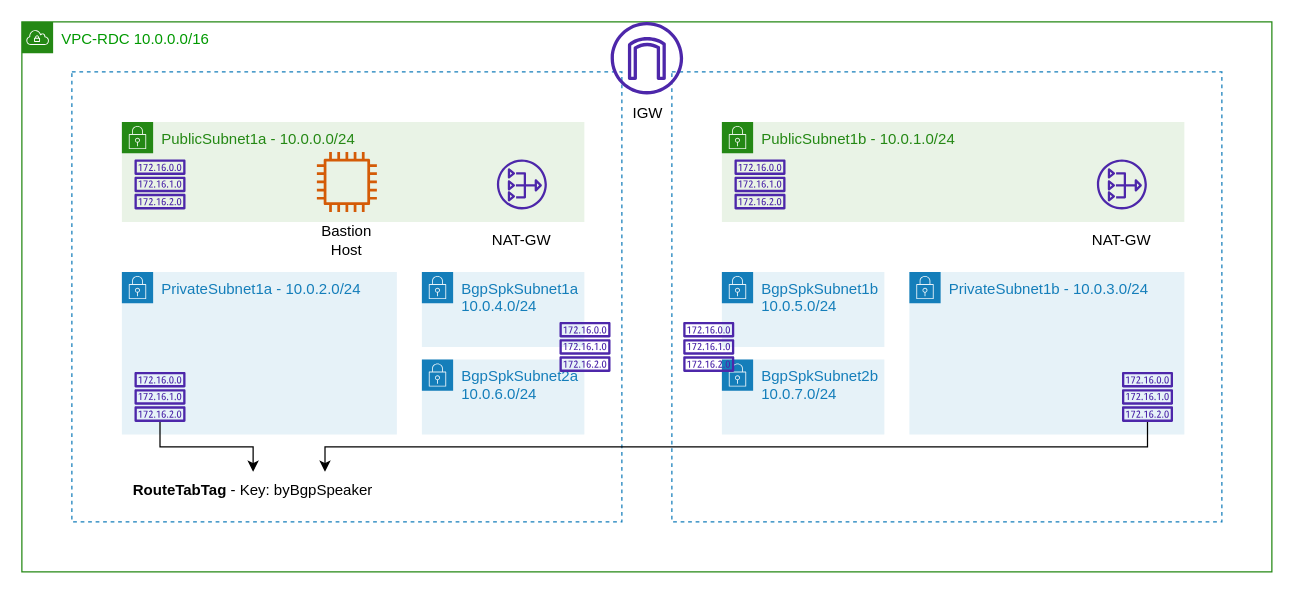
The diagram is 1294 pixels wide and 594 high, and some of its shapes have lost their labels. The box of each missing label's shape, as (x1, y1, x2, y2) in pixels:
Availability Zone-A: (71, 71, 622, 522)
Availability Zone-B: (671, 71, 1222, 522)
